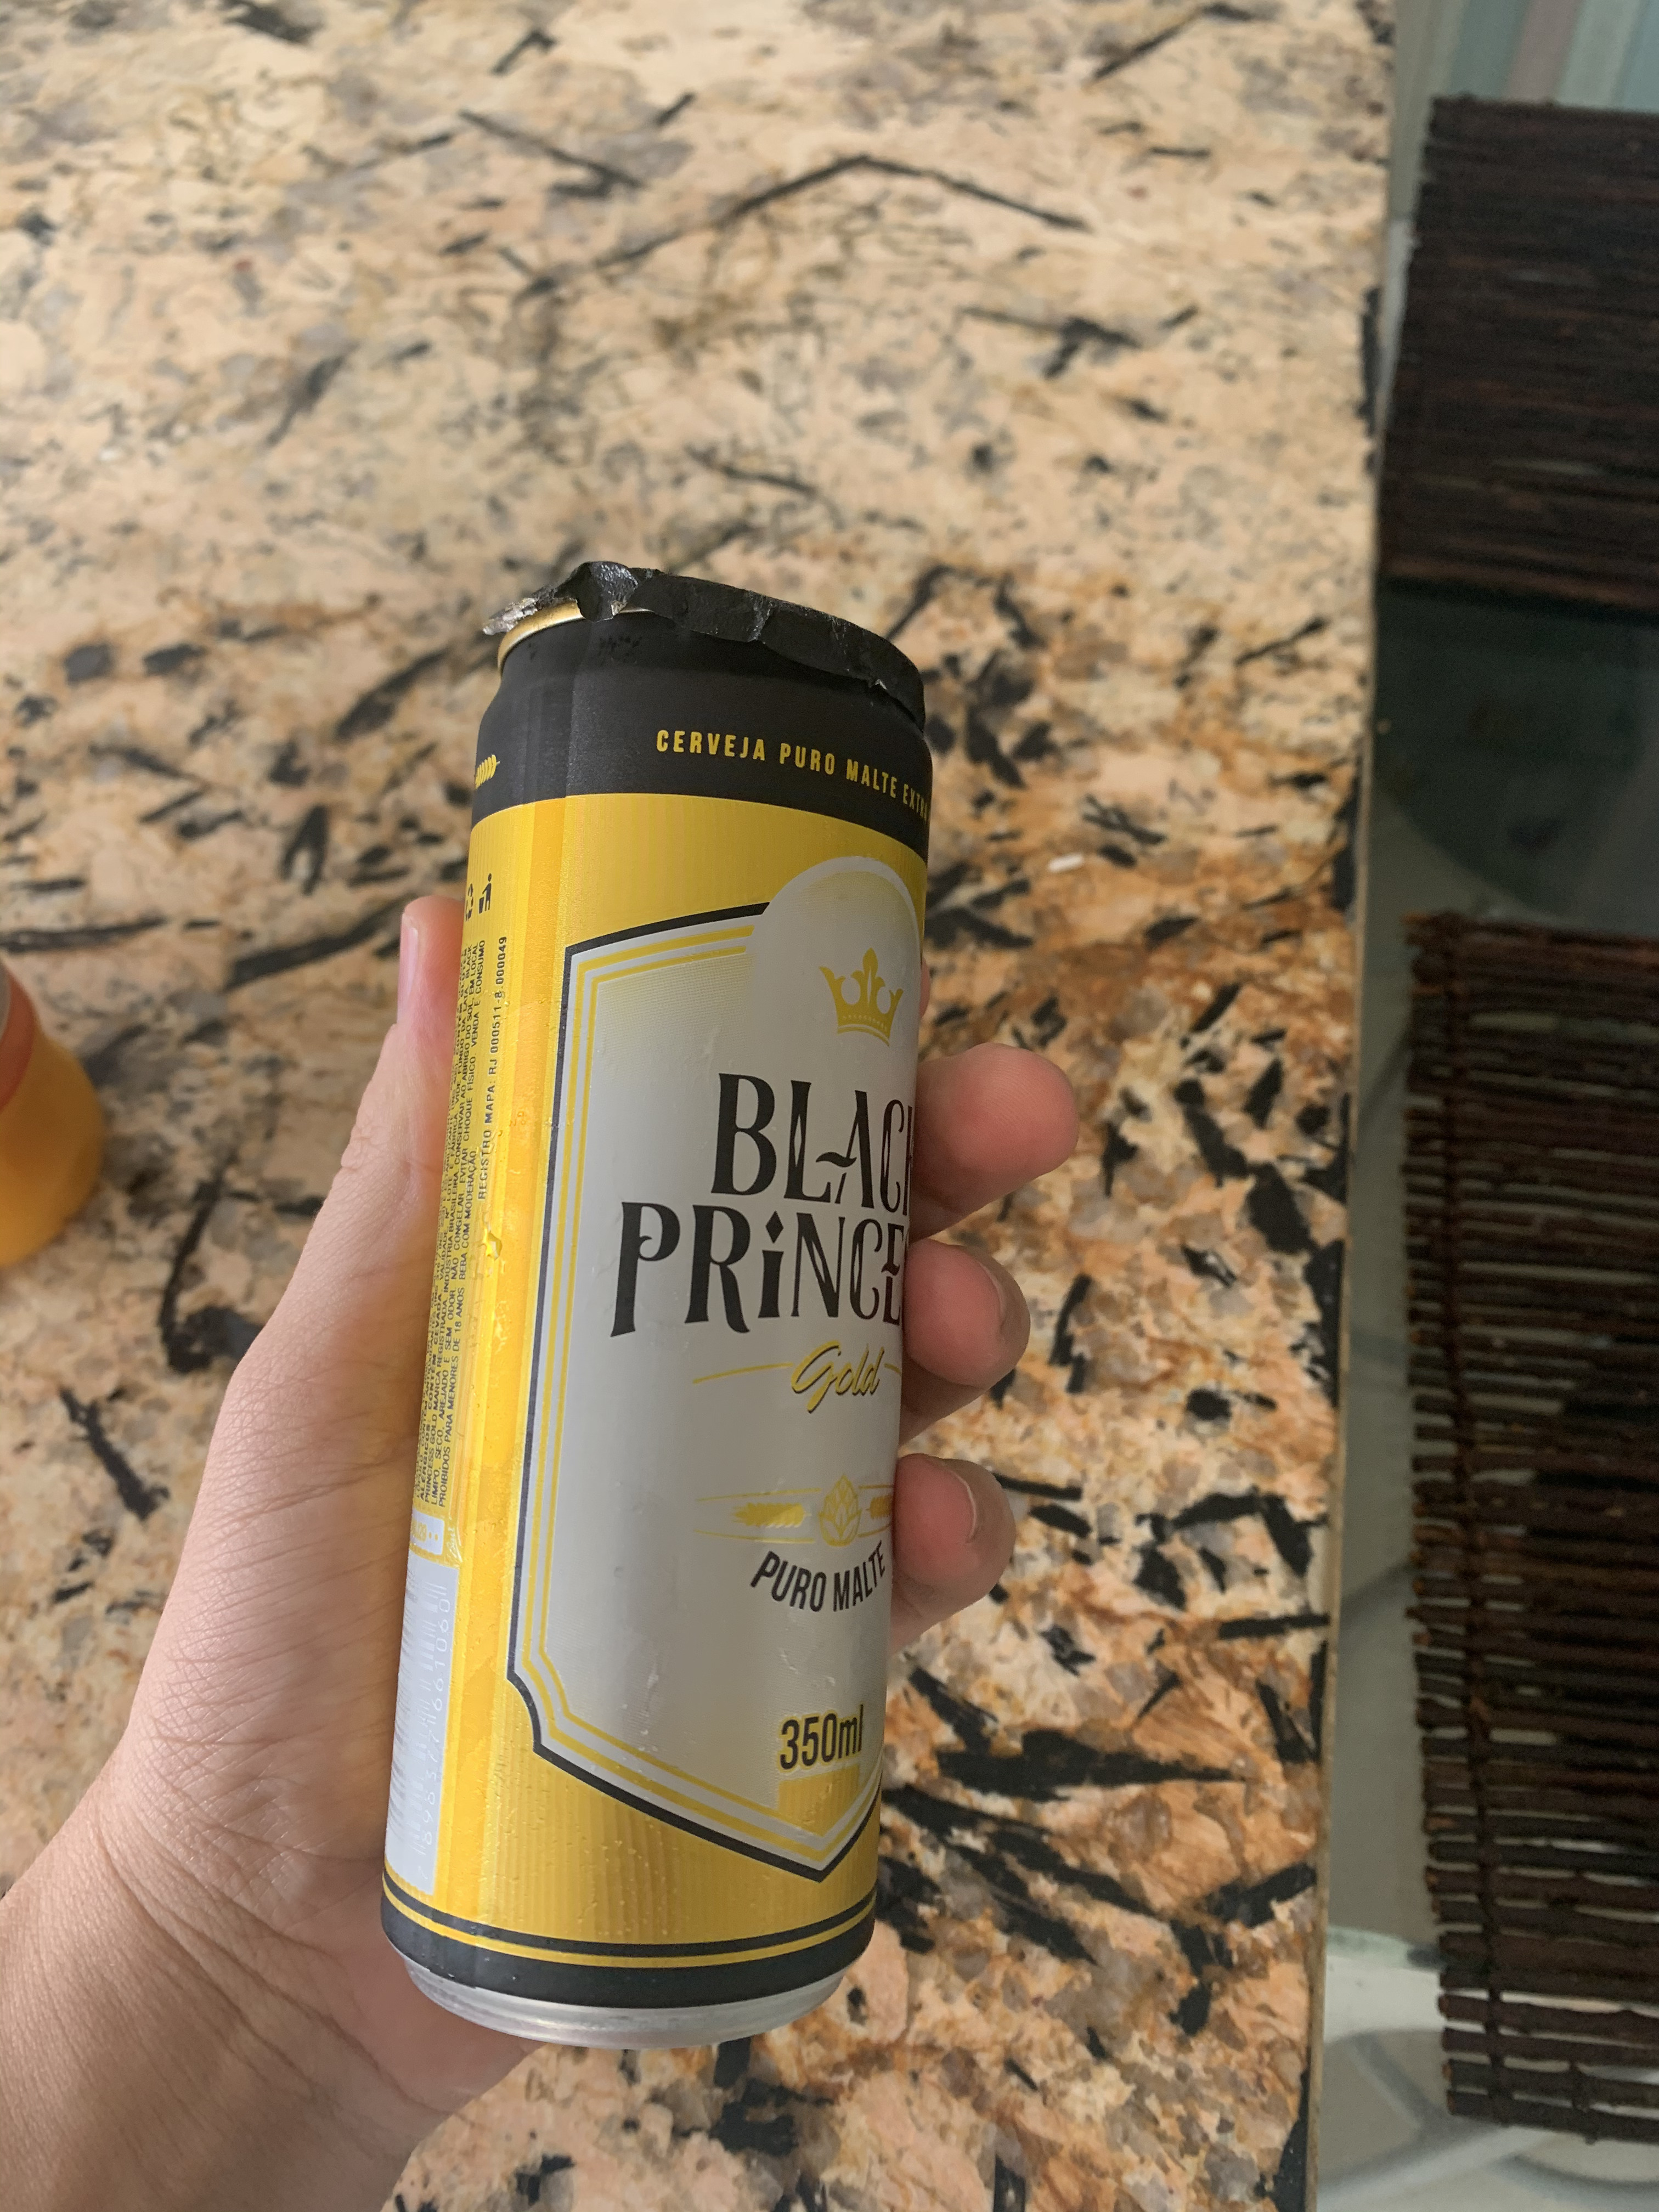blackprincess: (376, 557, 911, 2052)
